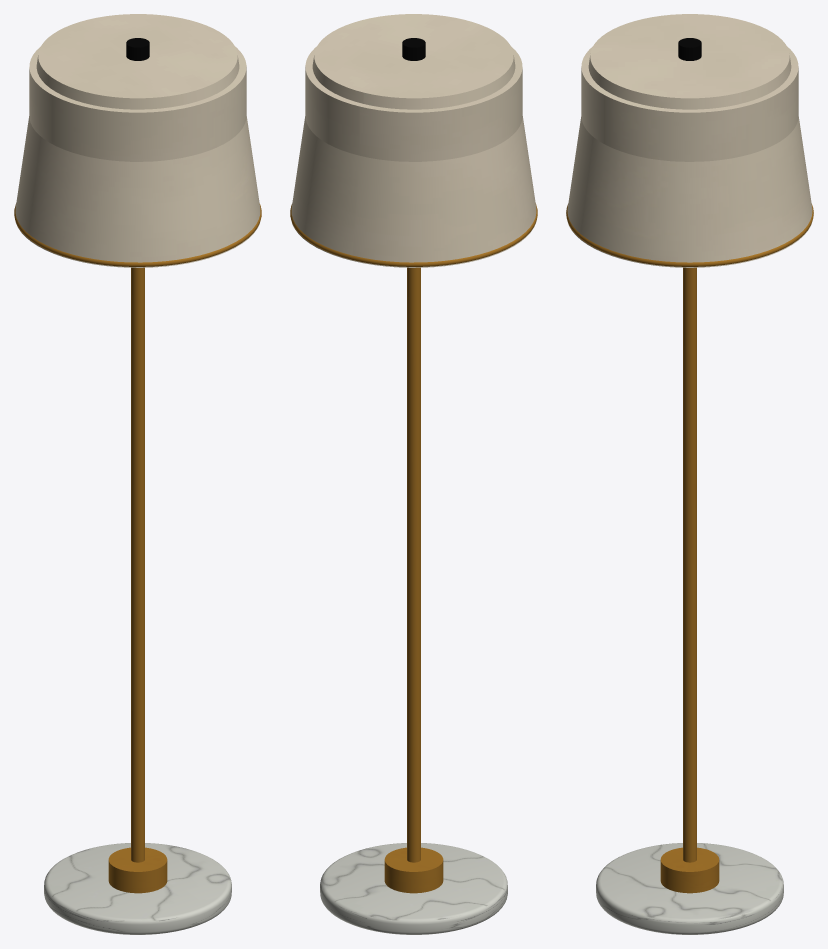
The model's file is razoredge-modern-floor-lamp.glb.
3 renders of one model, left to right at view 1: azimuth 30°, elevation 25°; view 2: azimuth 150°, elevation 25°; view 3: azimuth 270°, elevation 25°, orthographic.
Parts seen in each view (by area): view 1: shade, shade_inner, base, stem, base_ring, shade_rim; view 2: shade, shade_inner, base, stem, base_ring, shade_rim; view 3: shade, shade_inner, base, stem, base_ring, shade_rim.
Boxes of the visible parts, <box> form: shade: <box>15,14,260,267</box>; shade_inner: <box>29,46,246,161</box>; base: <box>44,843,231,934</box>; stem: <box>131,267,144,862</box>; base_ring: <box>108,847,167,893</box>; shade_rim: <box>14,203,261,266</box>; shade: <box>291,14,536,267</box>; shade_inner: <box>305,46,522,161</box>; base: <box>320,843,507,934</box>; stem: <box>407,267,420,862</box>; base_ring: <box>384,847,443,893</box>; shade_rim: <box>290,203,537,266</box>; shade: <box>567,14,812,267</box>; shade_inner: <box>581,46,798,161</box>; base: <box>596,843,783,934</box>; stem: <box>683,267,696,862</box>; base_ring: <box>660,847,719,893</box>; shade_rim: <box>566,204,813,266</box>.
Size of the model in its own units: 0.422 by 1.6 by 0.422.
Materials: 5 (4 with a texture image).
